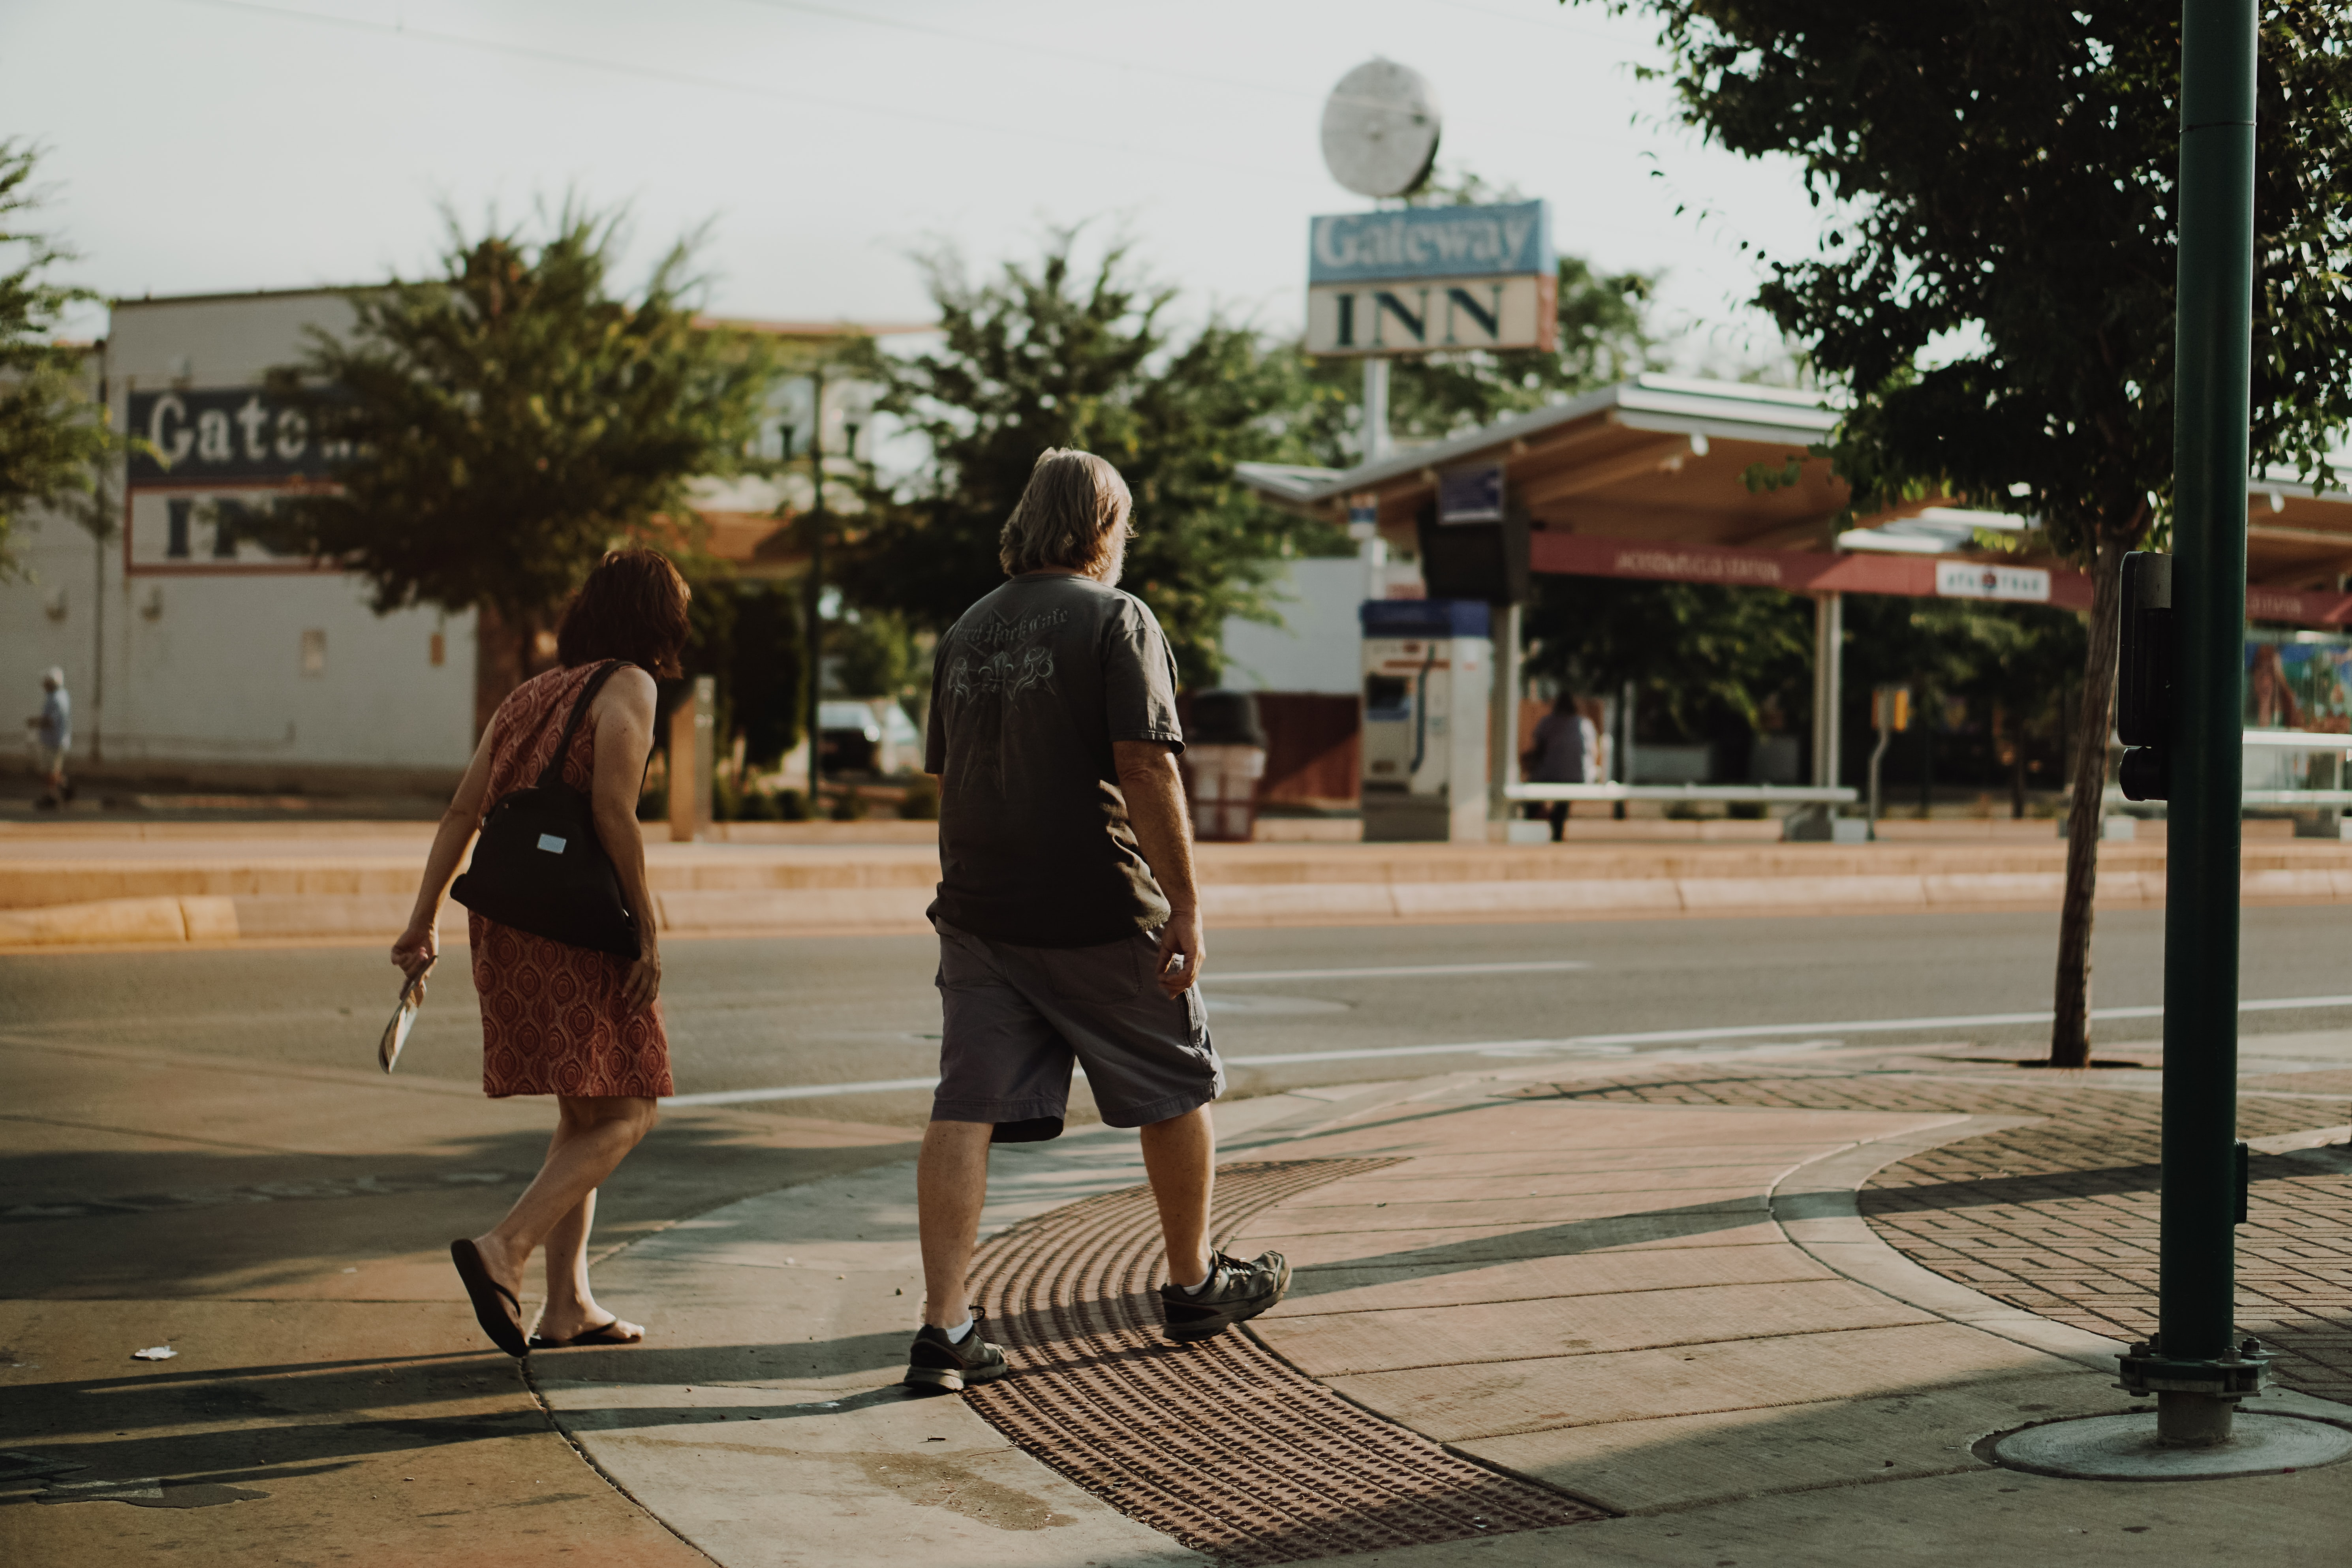person: (919, 447, 1285, 1380), (411, 535, 699, 1347)
